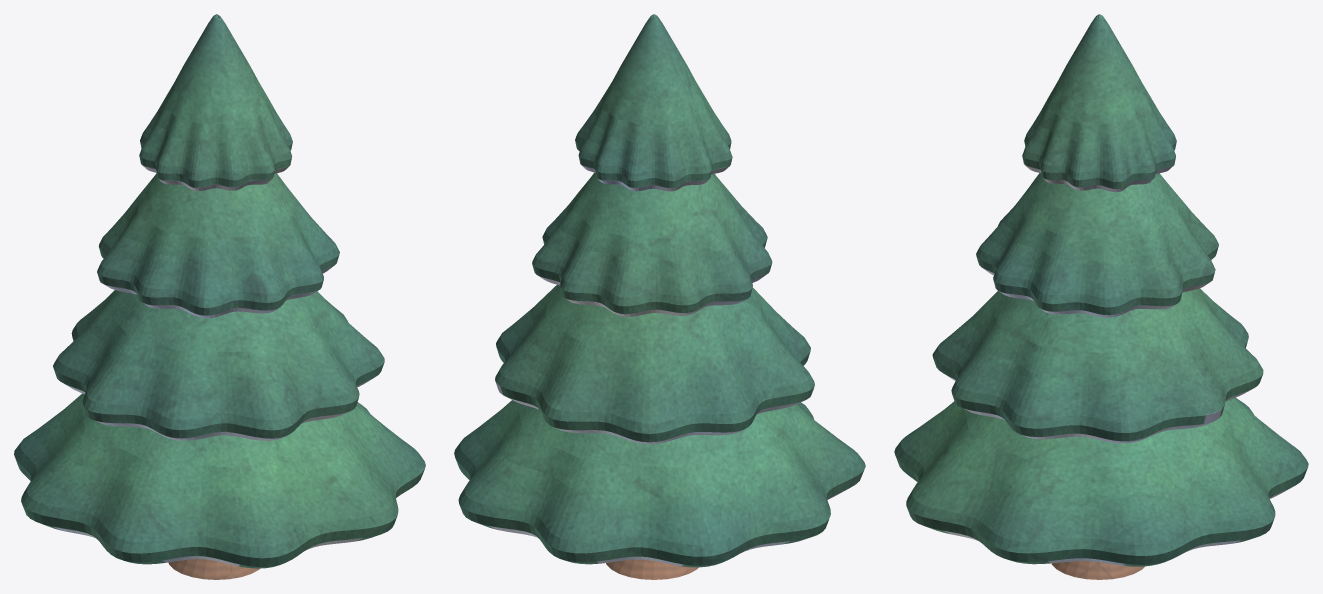
File: WM_Pine_A.fbx
3 renders of one model, left to right at view 1: azimuth 30°, elevation 25°; view 2: azimuth 150°, elevation 25°; view 3: azimuth 270°, elevation 25°, orthographic.
Visible parts, largest first — view 1: WM_Pine_A_LOD0; view 2: WM_Pine_A_LOD0; view 3: WM_Pine_A_LOD0.
Part boxes in pixels (<box>): WM_Pine_A_LOD0: <box>14,14,425,579</box>; WM_Pine_A_LOD0: <box>454,14,865,579</box>; WM_Pine_A_LOD0: <box>894,14,1308,579</box>.
Size of what is drawn, in the model's own units: 1.99 by 2.92 by 2.01.
